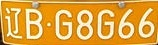B: (26, 9, 43, 39)
